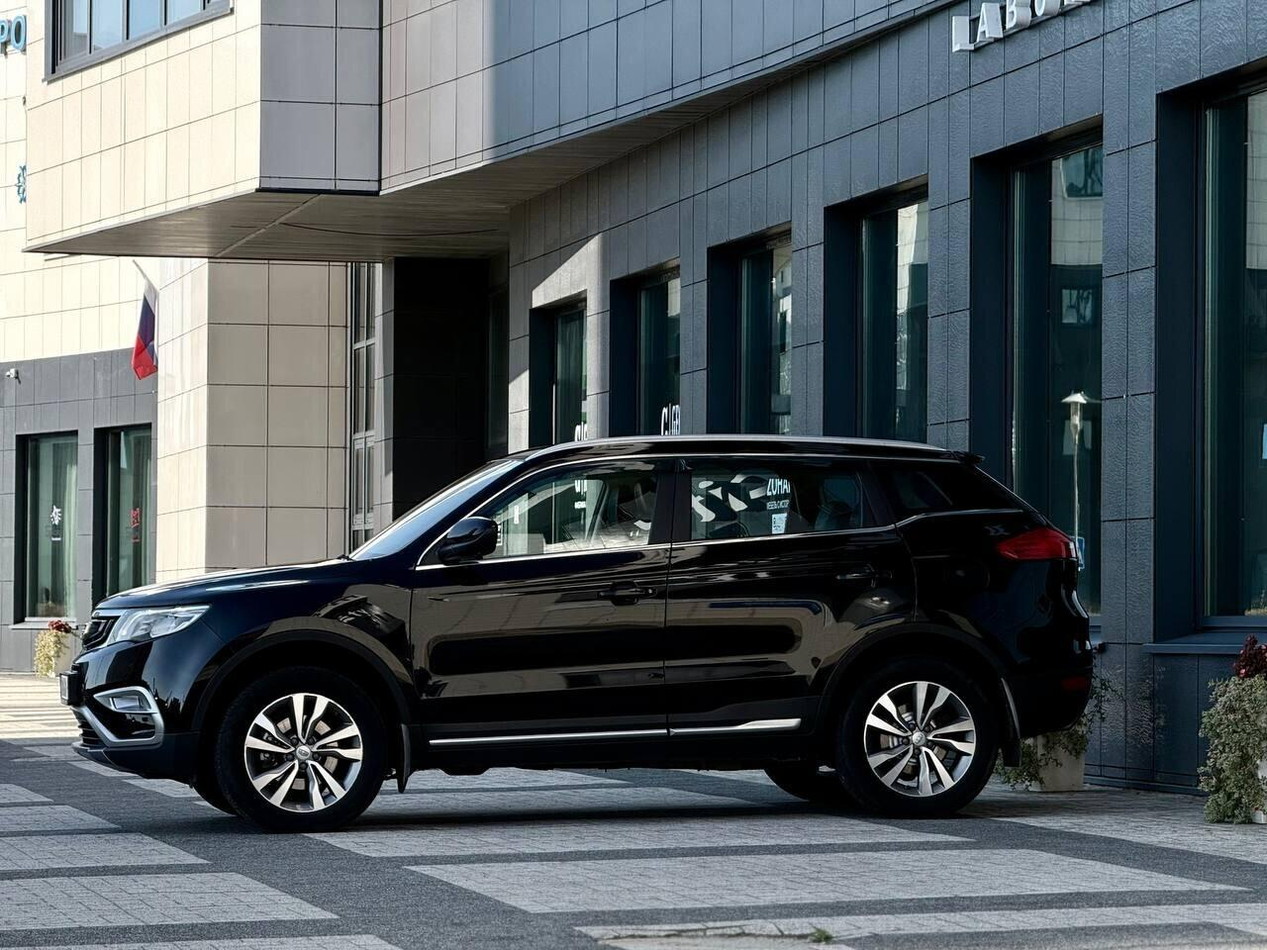Atlas_2016-2023: (62, 429, 1095, 823)
